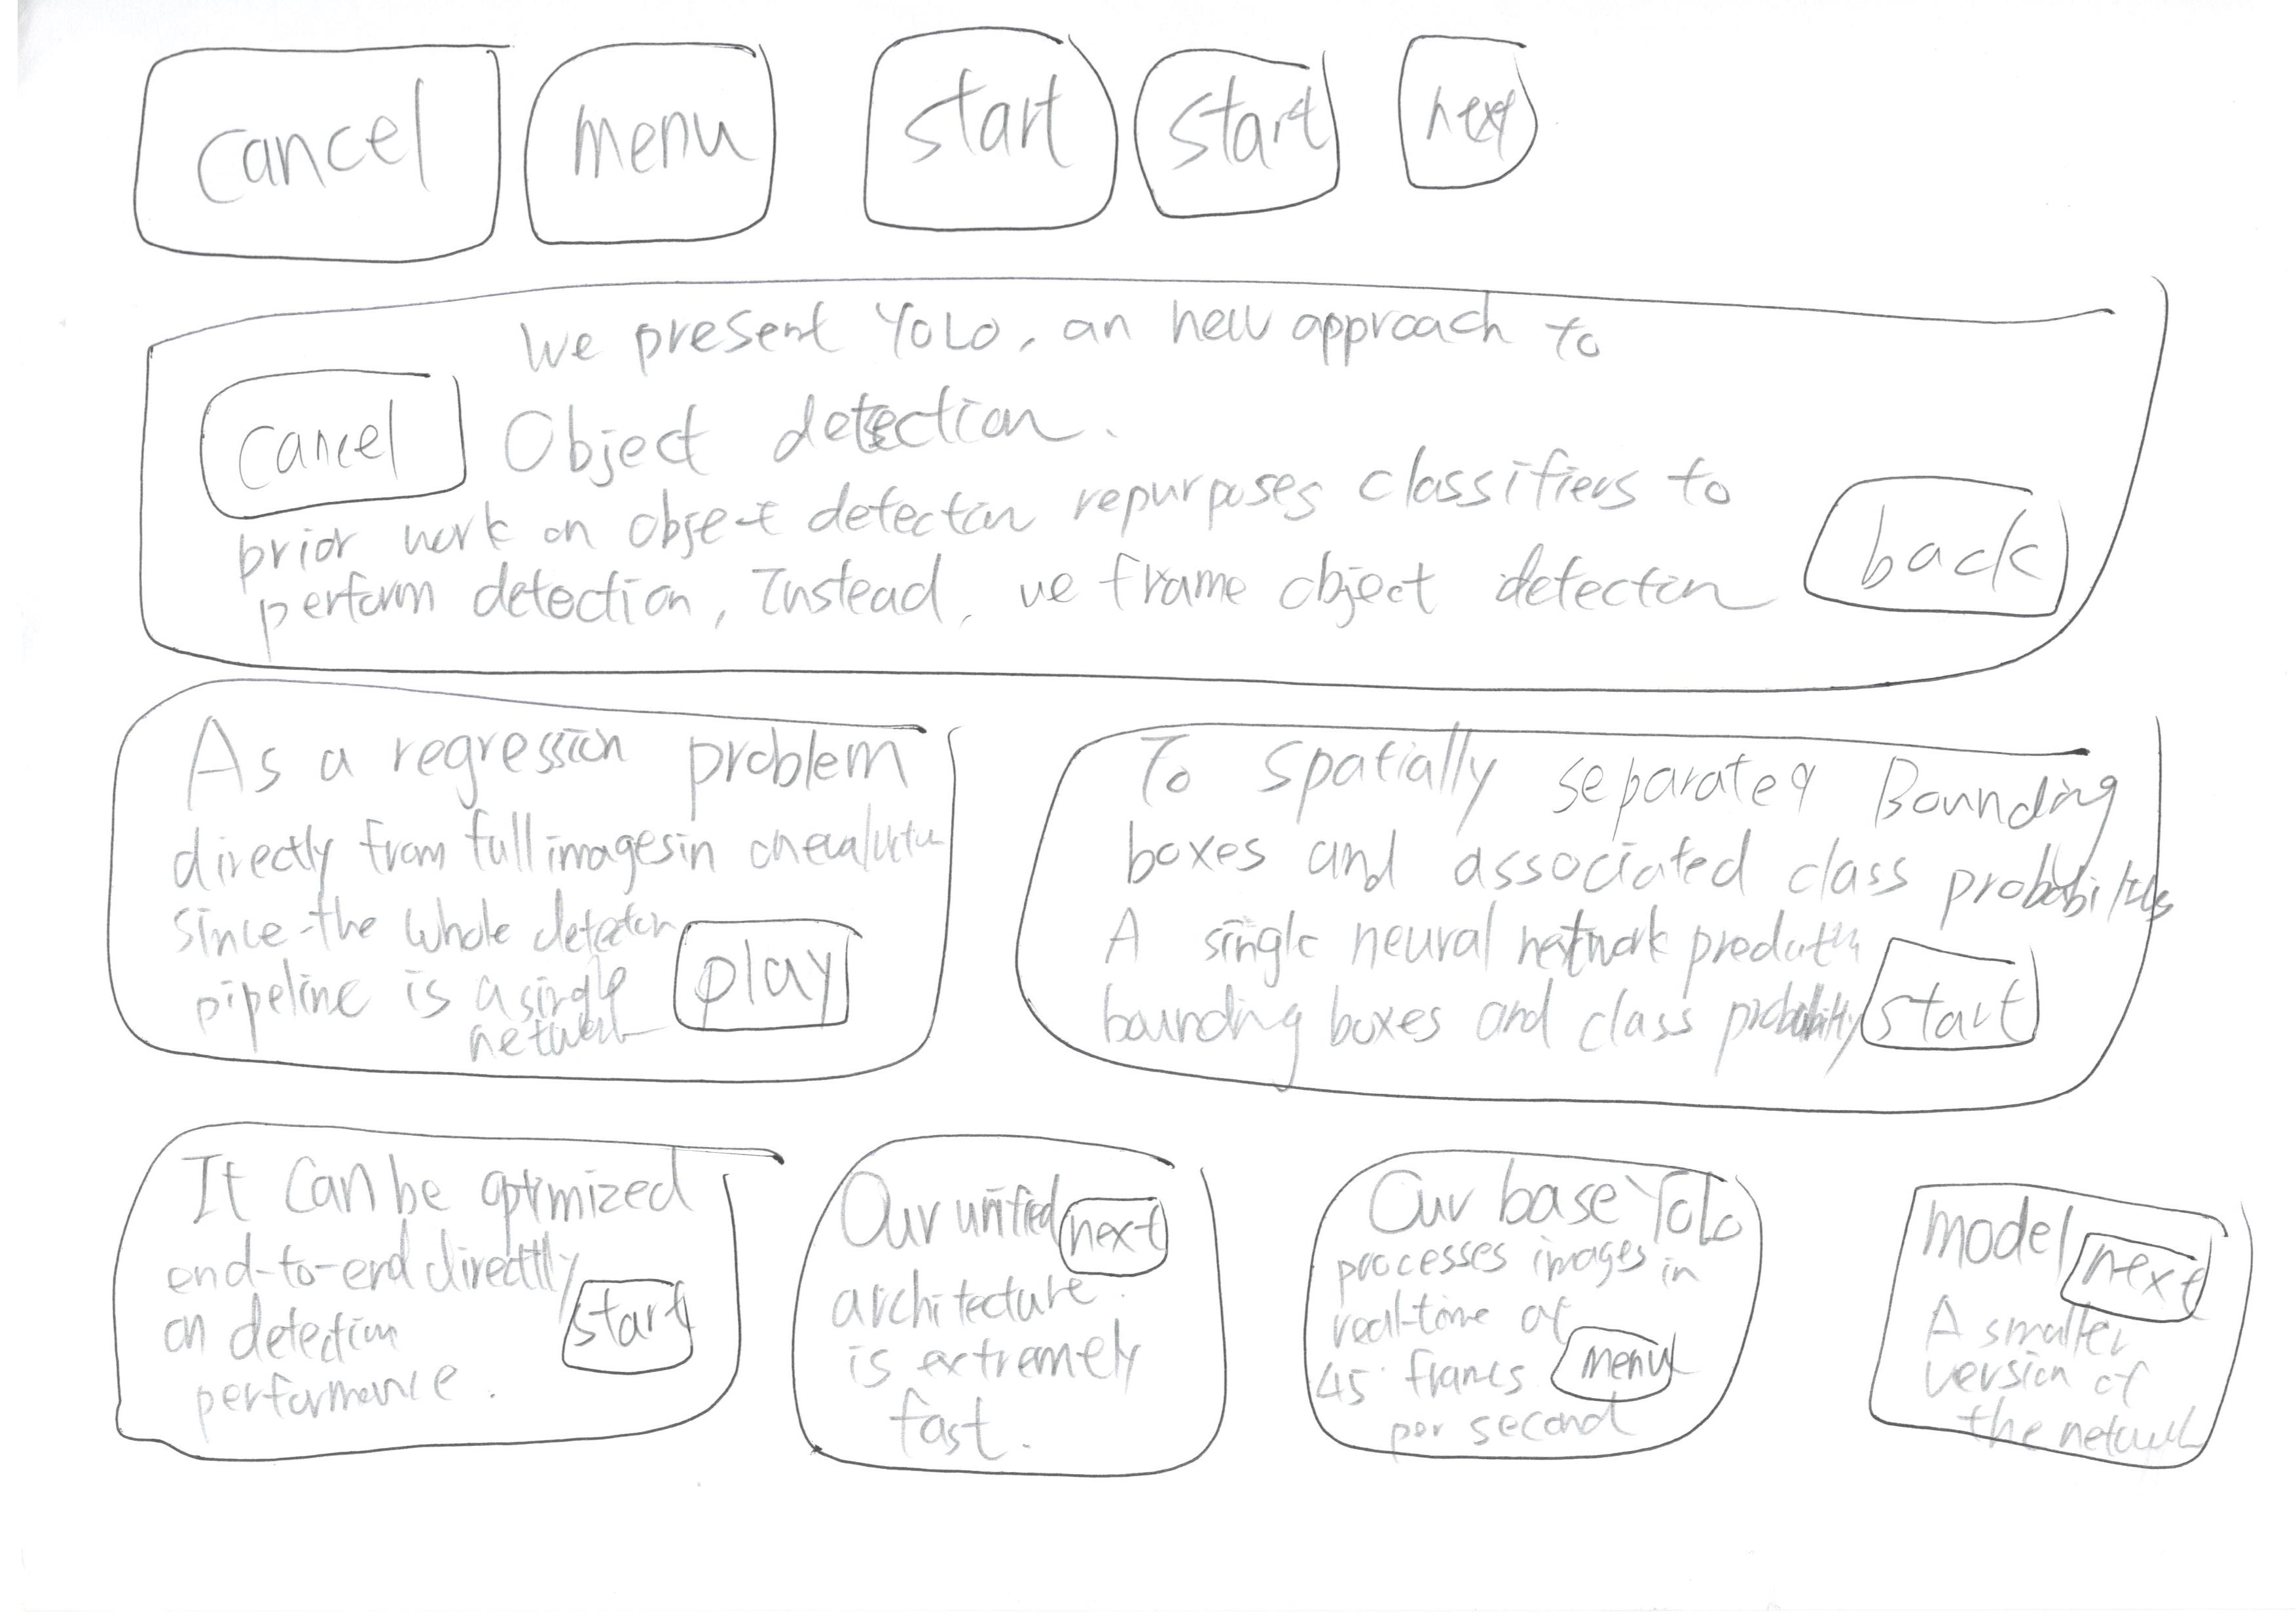back: (1795, 439, 2089, 643)
cancel: (105, 11, 517, 278), (185, 341, 476, 526)
double: (970, 664, 2247, 1134), (79, 649, 977, 1097), (40, 1084, 772, 1508), (1777, 1132, 2296, 1550), (1261, 1114, 1777, 1533), (767, 1093, 1236, 1520)
menu: (501, 14, 791, 262), (1529, 1308, 1709, 1411)
next: (1385, 9, 1582, 278), (2050, 1213, 2245, 1329), (1039, 1167, 1195, 1276)
play: (654, 898, 893, 1049)
row: (46, 642, 2292, 1146), (72, 1095, 2296, 1540), (67, 267, 2289, 710), (53, 0, 2252, 274)
single: (114, 264, 2259, 707)
small-title: (1153, 729, 2099, 856), (517, 288, 1602, 387), (200, 700, 886, 796), (195, 1153, 686, 1225), (1382, 1158, 1711, 1237), (840, 1176, 1048, 1255), (1939, 1199, 2069, 1283)
start: (814, 11, 1139, 246), (1118, 16, 1373, 253), (1837, 917, 2073, 1065), (545, 1255, 708, 1399)
text: (501, 401, 1755, 652), (1139, 819, 1849, 1062), (257, 501, 1667, 622), (151, 812, 631, 1048), (1099, 821, 2145, 917), (195, 803, 935, 903), (153, 1243, 552, 1418), (840, 1271, 1139, 1441), (1338, 1244, 1533, 1436), (1950, 1313, 2176, 1436), (1410, 1244, 1698, 1306)
